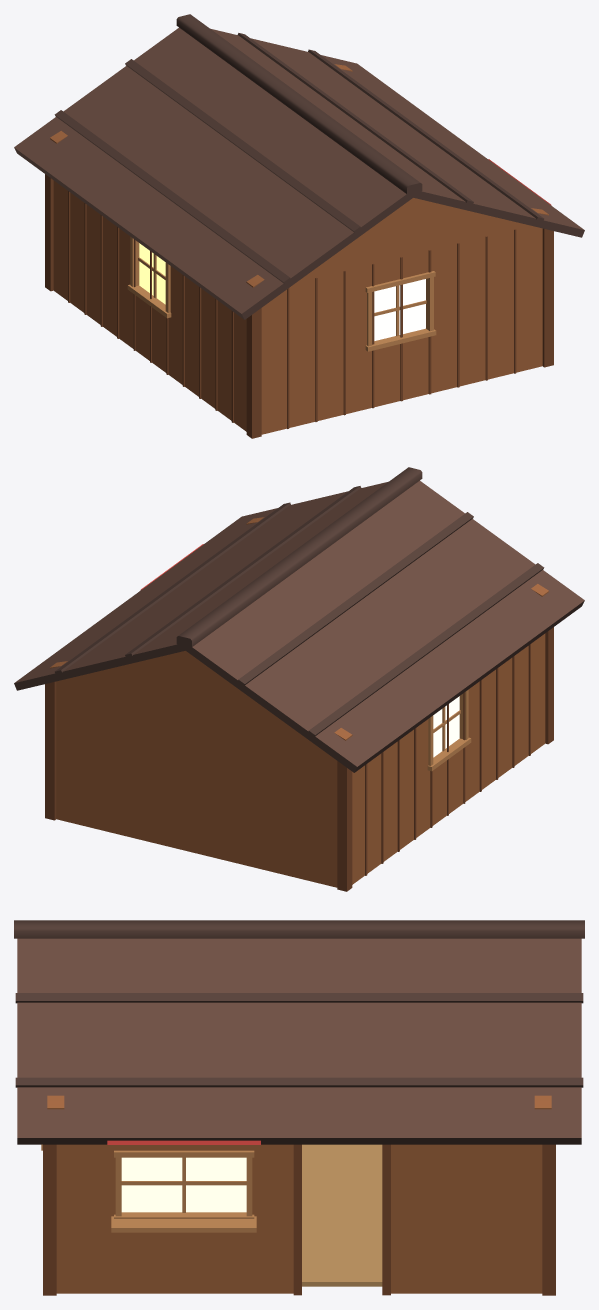
Rendered from food_hut.glb.
3 views of the same model, one above another, from view 1: azimuth 30°, elevation 25°; view 2: azimuth 150°, elevation 25°; view 3: azimuth 270°, elevation 25° (orthographic). The views are drawn at different scales.
Visible parts, largest first — view 1: roof, walls_upper, food_hut; view 2: roof, walls_upper, food_hut; view 3: roof, food_hut, walls_upper.
Boxes of the visible parts, x1,y1,x2,y2 form: roof: (14, 14, 584, 319); walls_upper: (45, 64, 553, 376); food_hut: (45, 225, 553, 438); roof: (14, 467, 584, 772); walls_upper: (45, 517, 553, 829); food_hut: (45, 678, 553, 891); roof: (14, 920, 584, 1144); food_hut: (43, 1144, 555, 1295); walls_upper: (41, 1095, 555, 1218).
Size of the model in its own units: 5.8 by 3.62 by 6.68.
2 materials, 2 textured.
